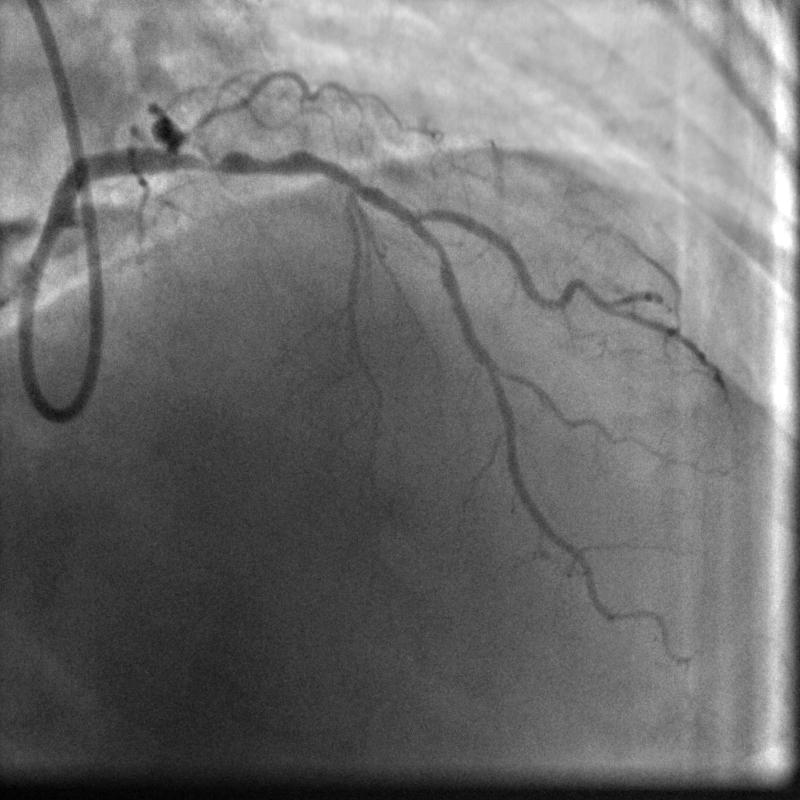Stenosis: (190, 141, 300, 170)
